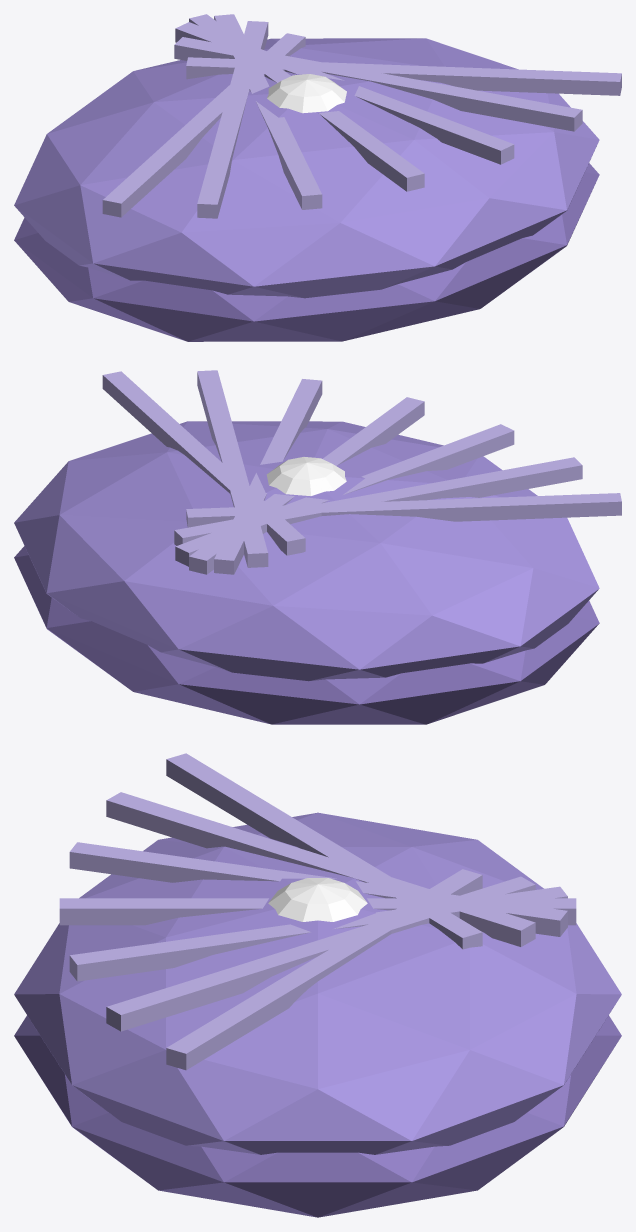
File: riesenmuschel.glb
3 renders of one model, top to bottom at view 1: azimuth 30°, elevation 25°; view 2: azimuth 150°, elevation 25°; view 3: azimuth 270°, elevation 25°, orthographic. The views are drawn at different scales.
Parts seen in each view (by area): view 1: lid-m, body; view 2: lid-m, body; view 3: lid-m, body.
Part boxes in pixels (x1=…): lid-m: x1=14, y1=14, x2=621, y2=298; body: x1=14, y1=74, x2=599, y2=341; lid-m: x1=14, y1=370, x2=621, y2=681; body: x1=14, y1=457, x2=599, y2=724; lid-m: x1=14, y1=753, x2=621, y2=1154; body: x1=14, y1=878, x2=621, y2=1217.
Size of the model in its own units: 2.34 by 0.9 by 2.
